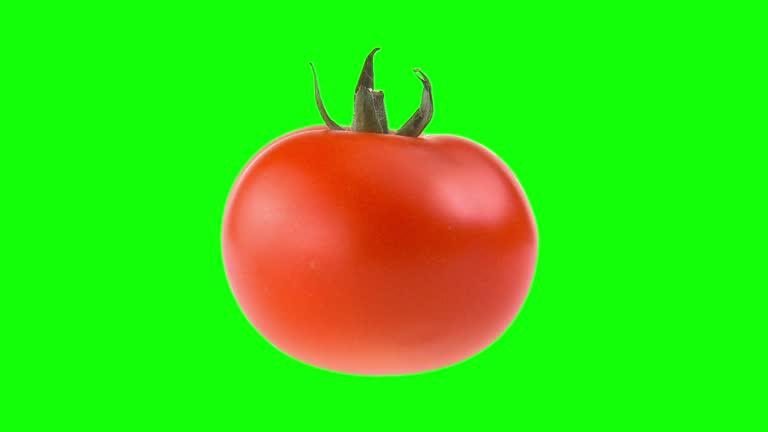Tomato: (225, 47, 540, 374)
